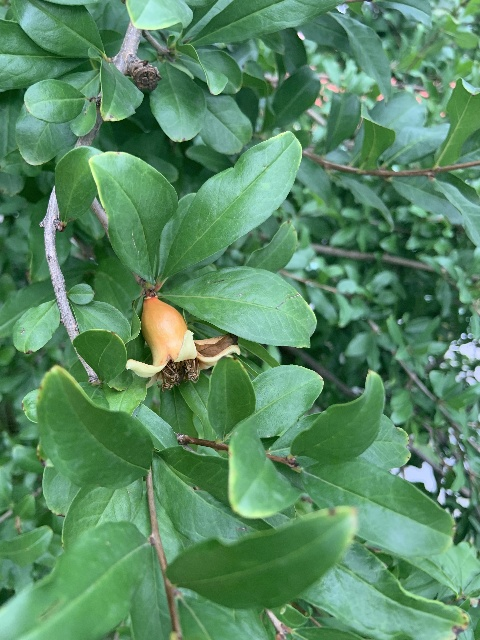early-fruit: (126, 296, 239, 390)
